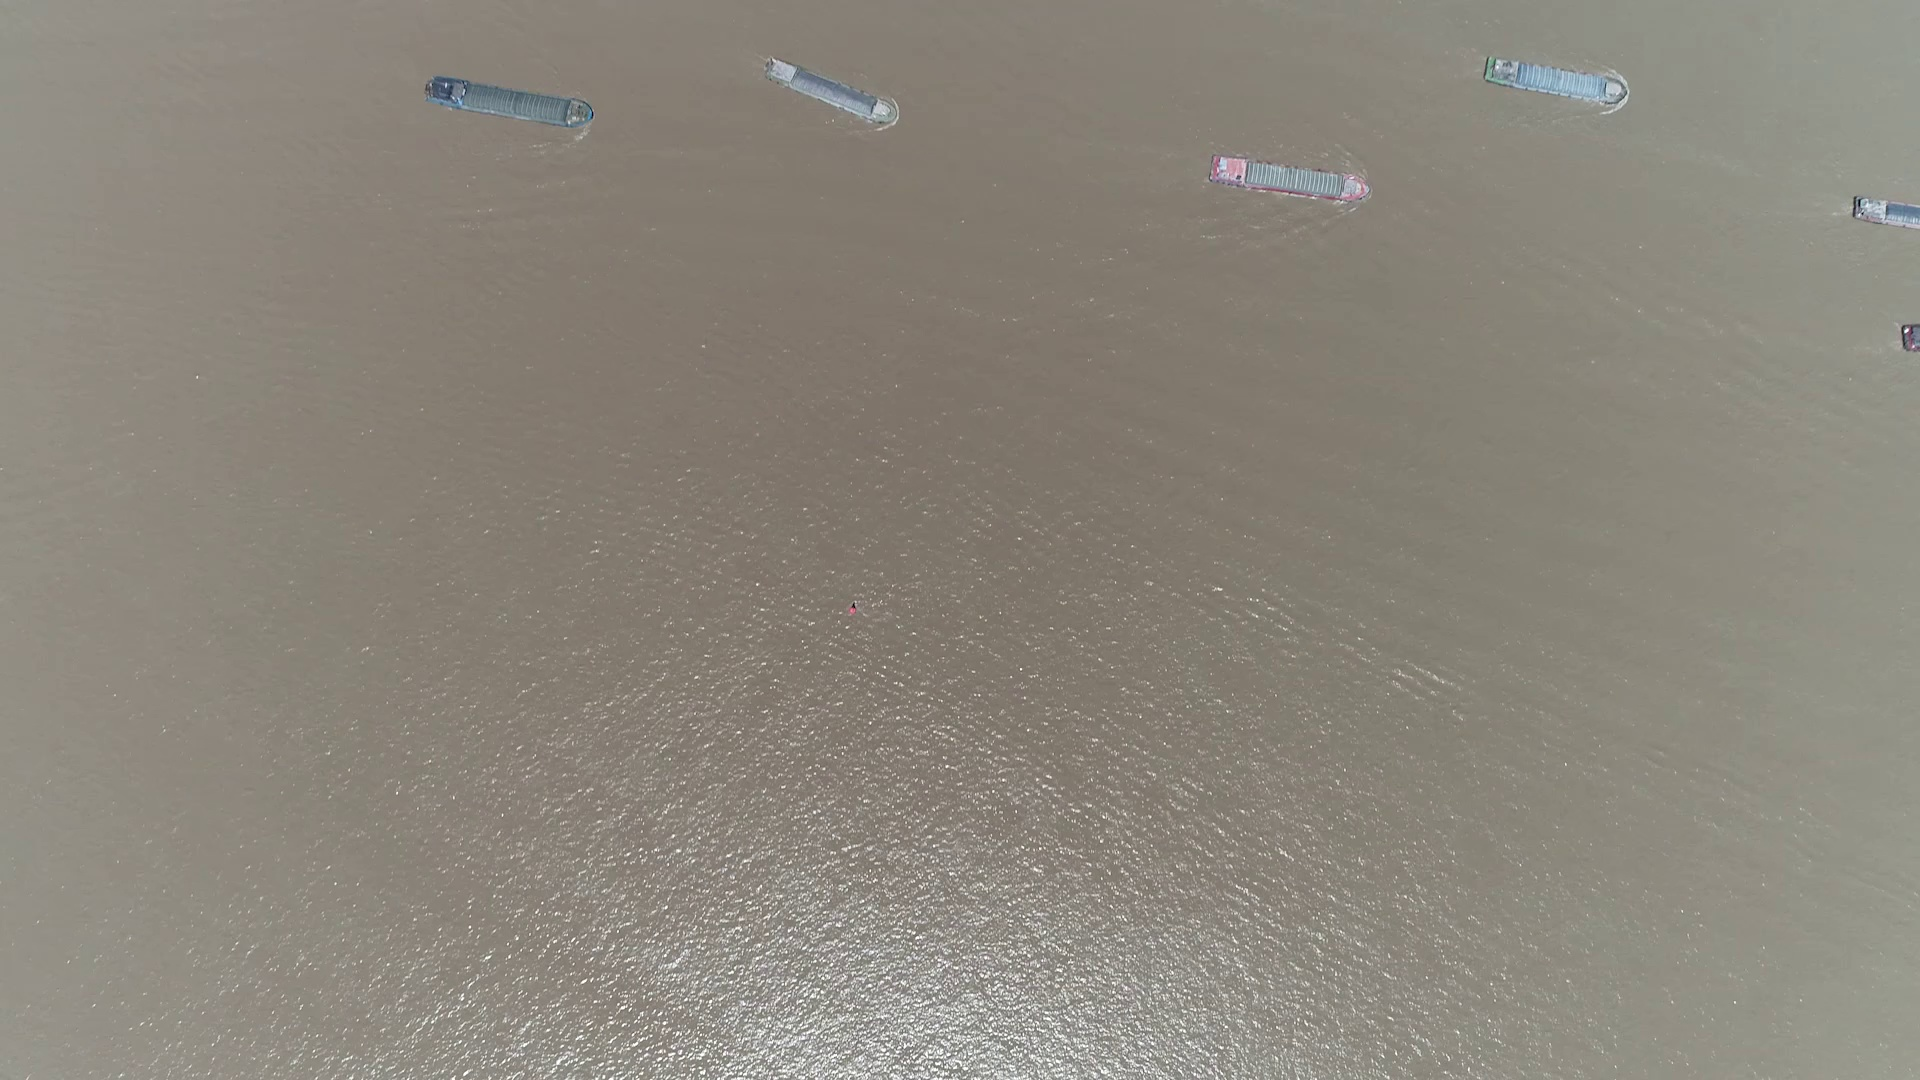ship: (425, 78, 593, 131), (764, 61, 895, 127), (1208, 160, 1366, 200), (1482, 62, 1627, 100)
